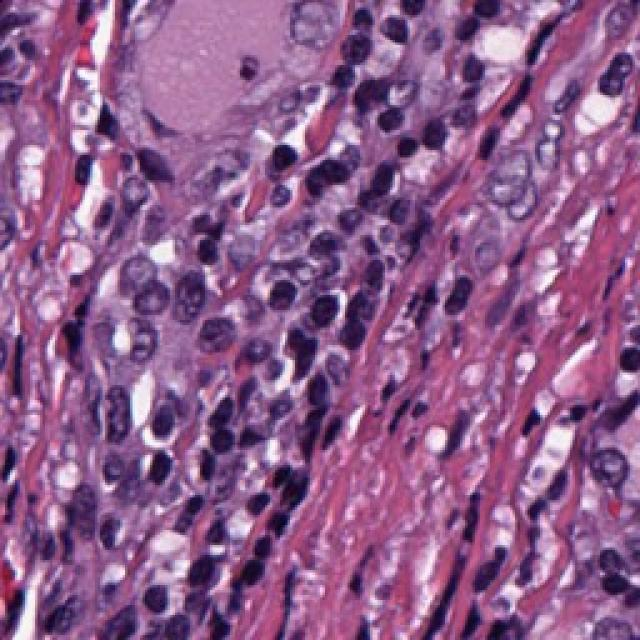abnormal: (480, 135, 561, 214), (156, 255, 217, 329), (287, 7, 351, 64), (101, 247, 161, 303)
